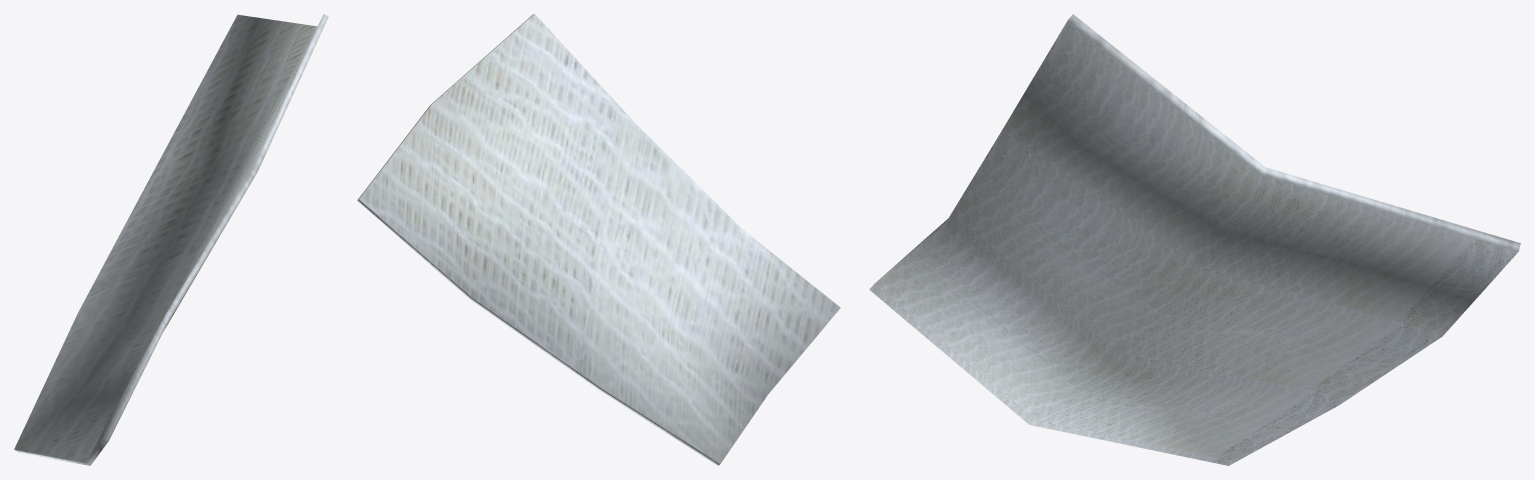
Rendered from gauge without blood.glb.
3 views of the same model, side by side, from view 1: azimuth 30°, elevation 25°; view 2: azimuth 150°, elevation 25°; view 3: azimuth 270°, elevation 25° (orthographic). The views are drawn at different scales.
Visible parts, largest first — view 1: Wolf3D_Body.027; view 2: Wolf3D_Body.027; view 3: Wolf3D_Body.027.
Boxes of the visible parts, x1,y1,x2,y2 form: Wolf3D_Body.027: (14,14,328,465); Wolf3D_Body.027: (357,14,840,465); Wolf3D_Body.027: (869,14,1520,465).
Bounding box in the file's own units: 0.0696 × 0.0801 × 0.0729.
Materials: 1 (1 with a texture image).
